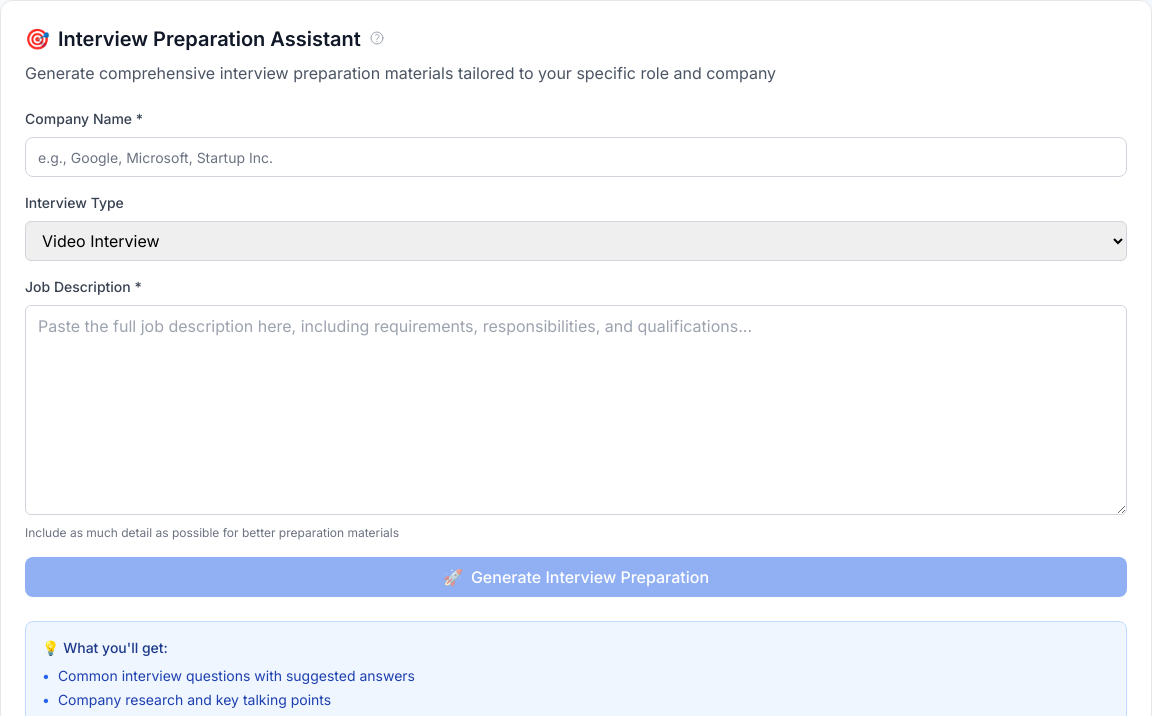
Test: InterviewPreparation › disables button when fields are empty
Expected: the button "🚀 Generate Interview Preparation" is disabled, 25,557 -> 1127,597
// Fill in company name only
Type "Google" into the field labelled "Company Name *" at x=576, y=157, box 25,137 -> 1127,177
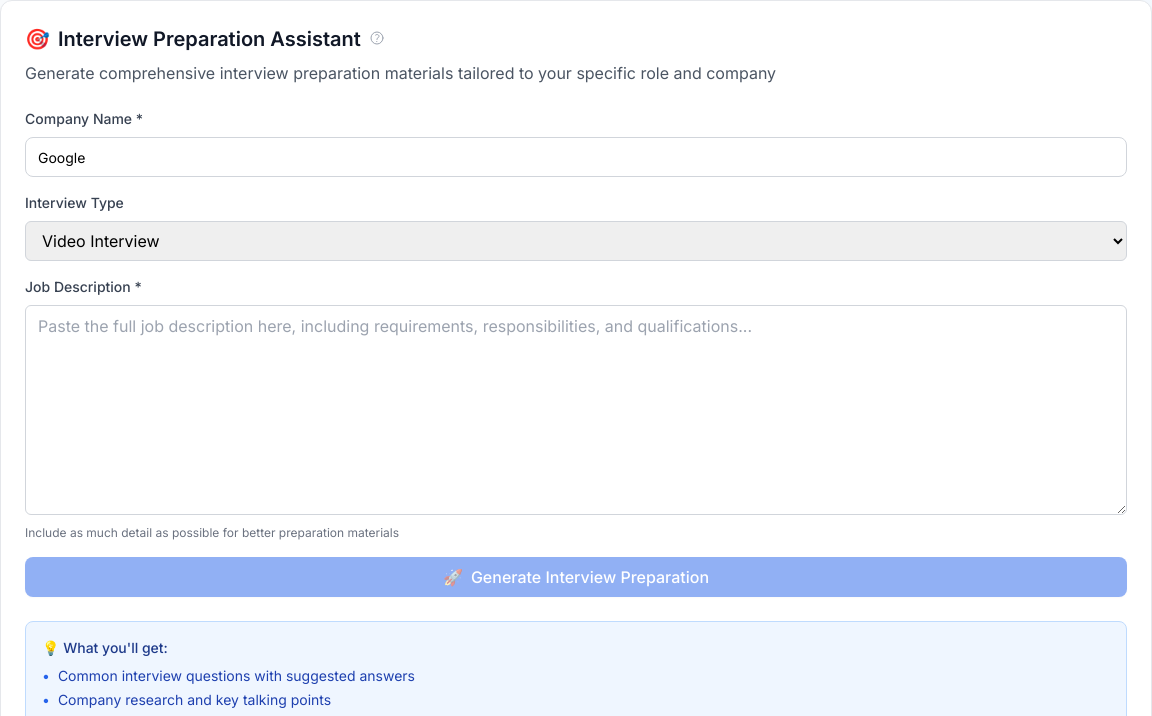
Expected: the button "🚀 Generate Interview Preparation" is disabled, 25,557 -> 1127,597
// Fill in job description only (clear company name first)
Clear the field labelled "Company Name *" at x=576, y=157, box 25,137 -> 1127,177
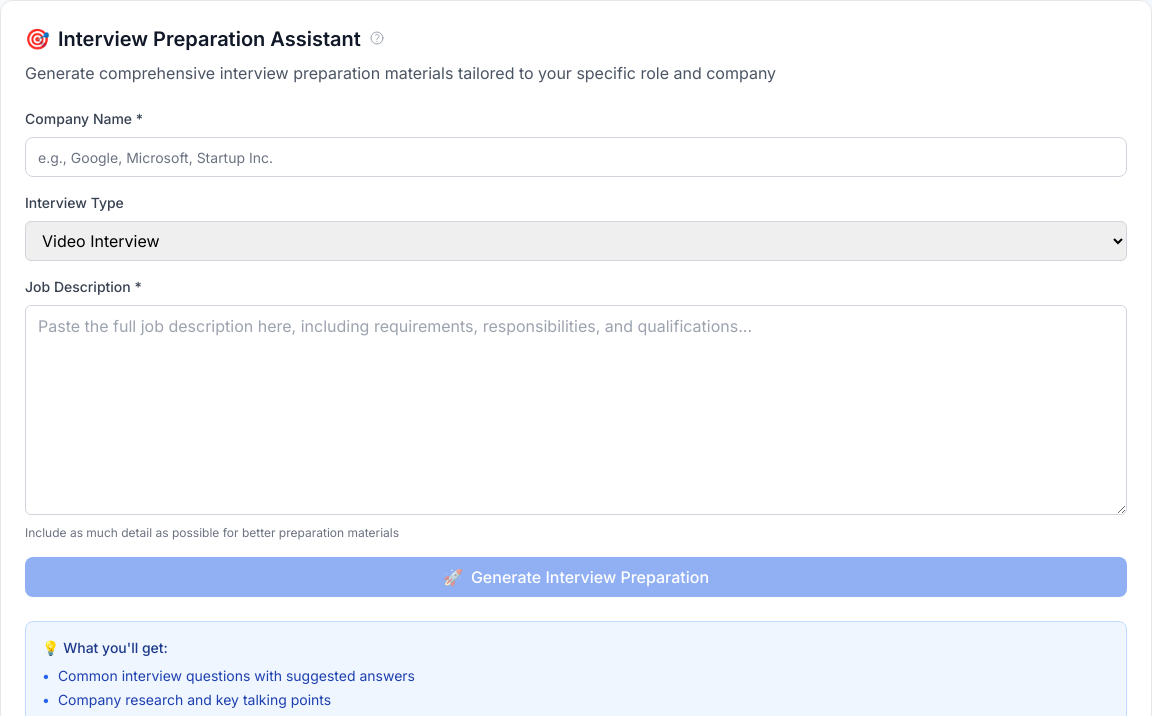
Replace the text in the text box labelled "Job Description *" with "Software Engineer position..." at x=576, y=410, box 25,305 -> 1127,515
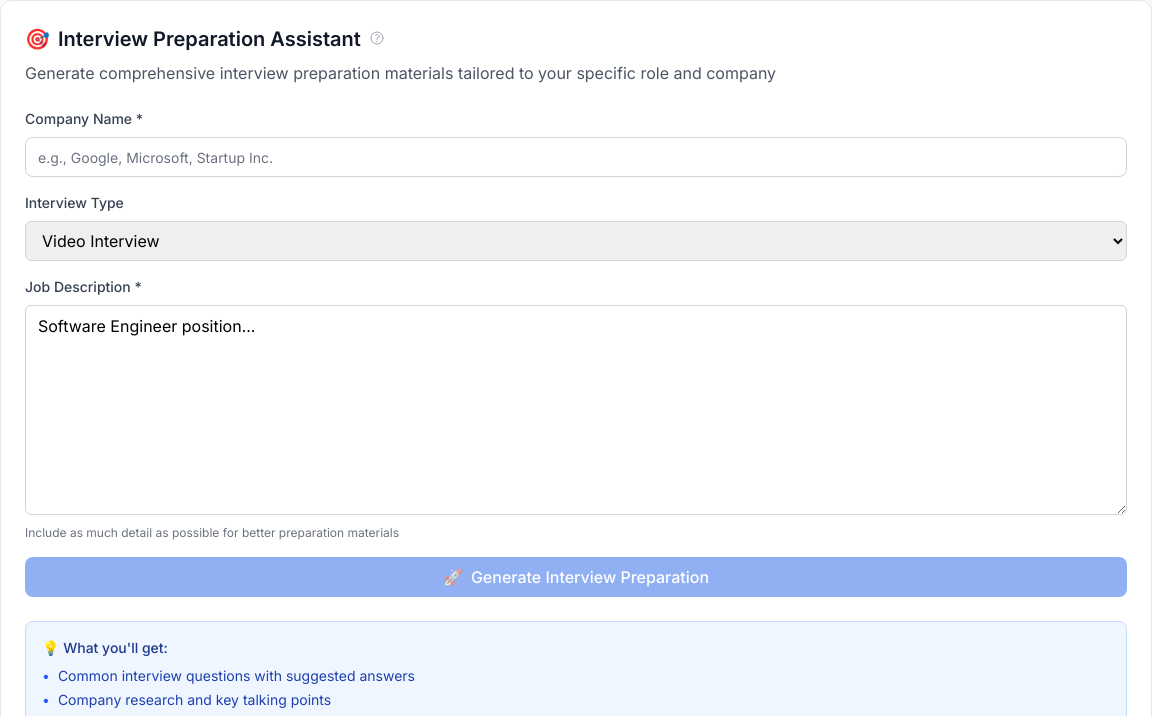
Expected: the button "🚀 Generate Interview Preparation" is disabled, 25,557 -> 1127,597
// Fill in both fields
Type "Google" into the field labelled "Company Name *" at x=576, y=157, box 25,137 -> 1127,177
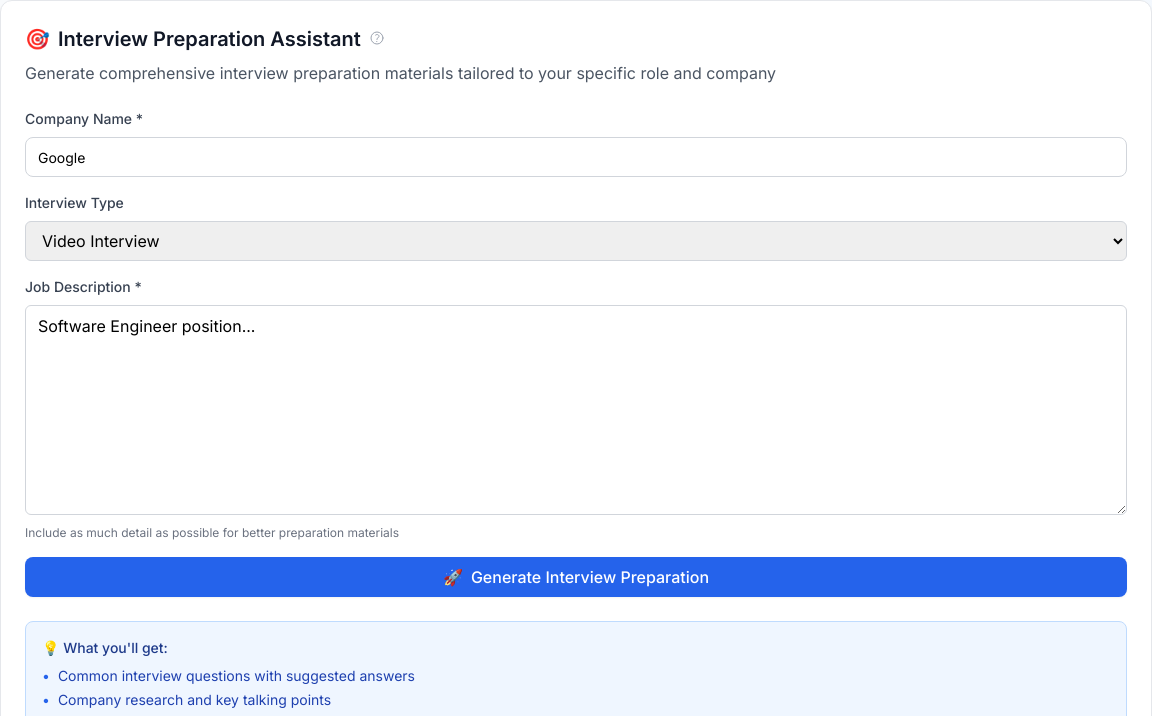
Expected: the button "🚀 Generate Interview Preparation" is enabled, 25,557 -> 1127,597
